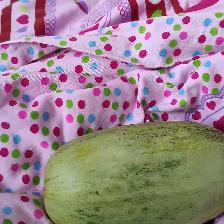gua: (54, 123, 217, 222)
